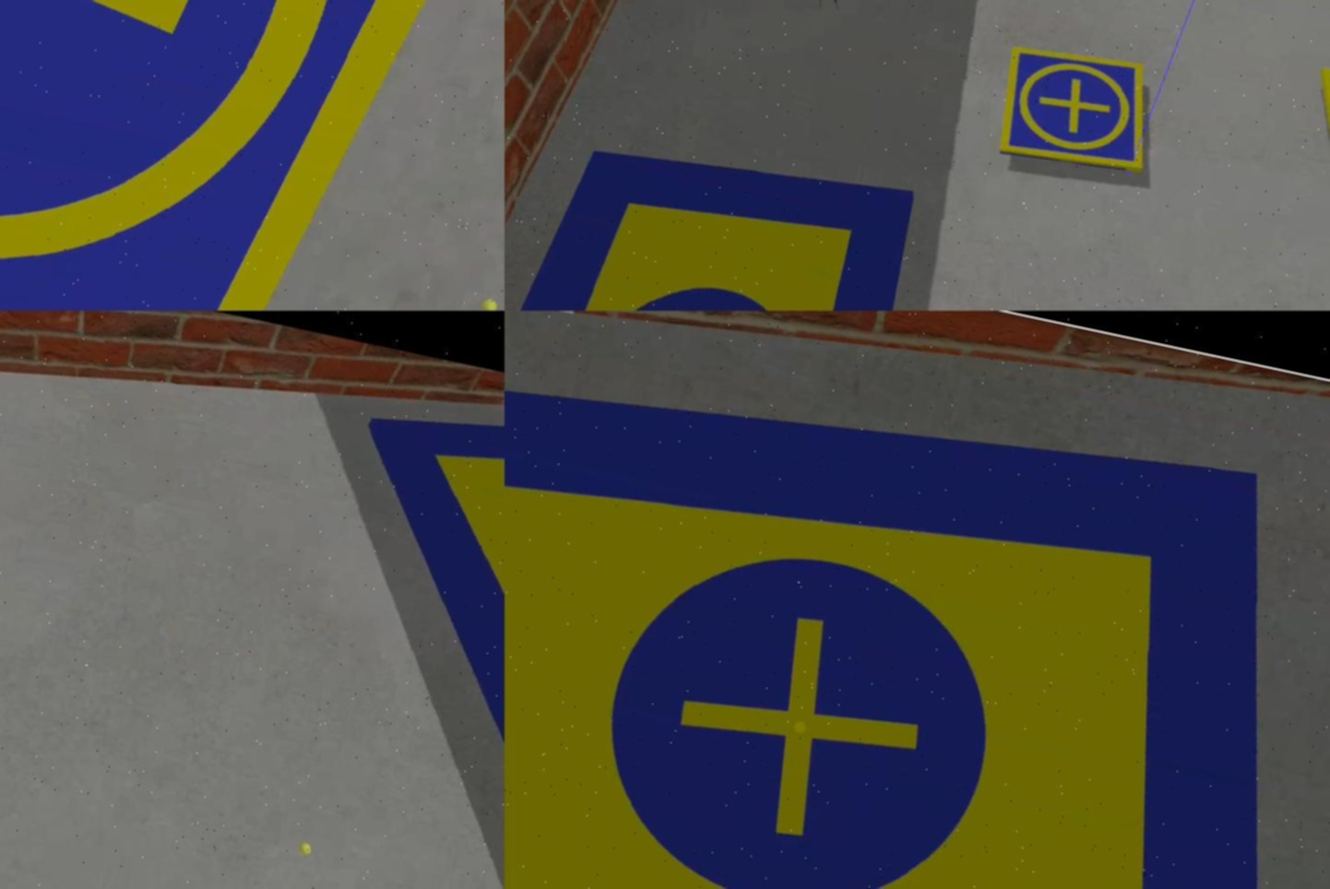large_base: (505, 312, 1330, 889), (287, 374, 505, 887), (505, 99, 935, 312)
small_base: (1, 1, 505, 312), (986, 40, 1167, 190)
